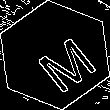M_NW: (19, 21, 91, 89)
